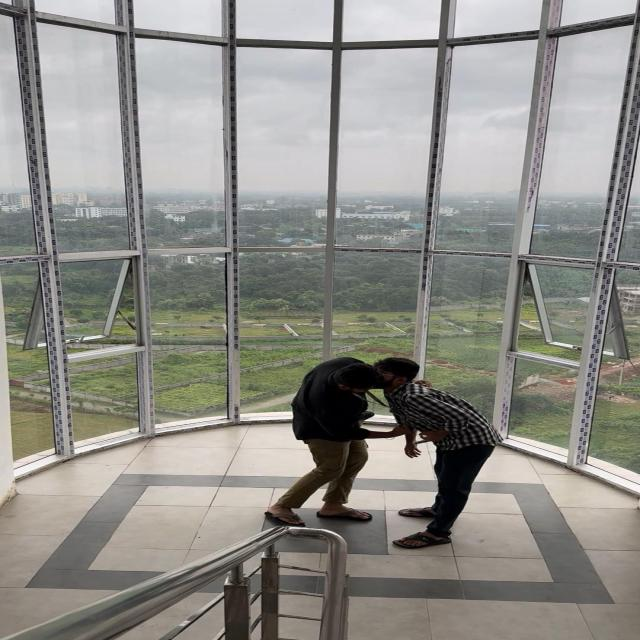fight: (228, 338, 528, 579)
